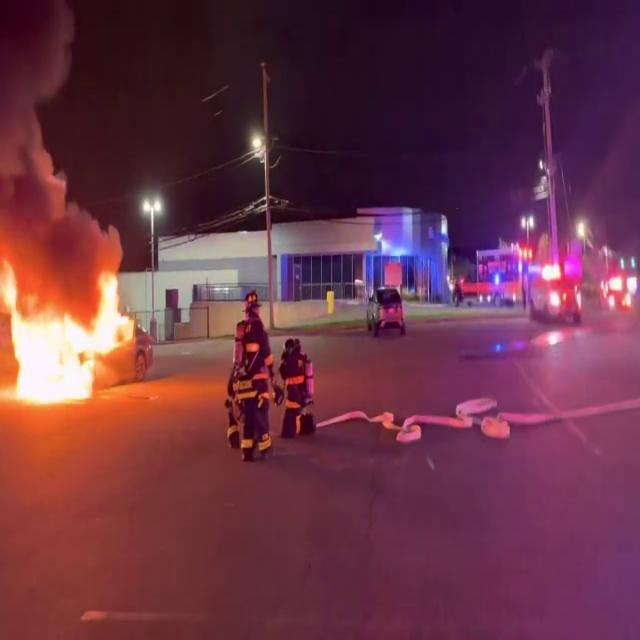Fire: (0, 254, 134, 406)
Smoke: (0, 0, 113, 289)
